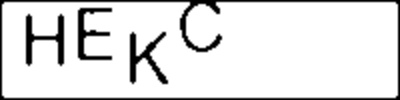C: (183, 1, 226, 57)
E: (75, 2, 118, 64)
H: (19, 10, 75, 71)
K: (124, 28, 175, 89)
